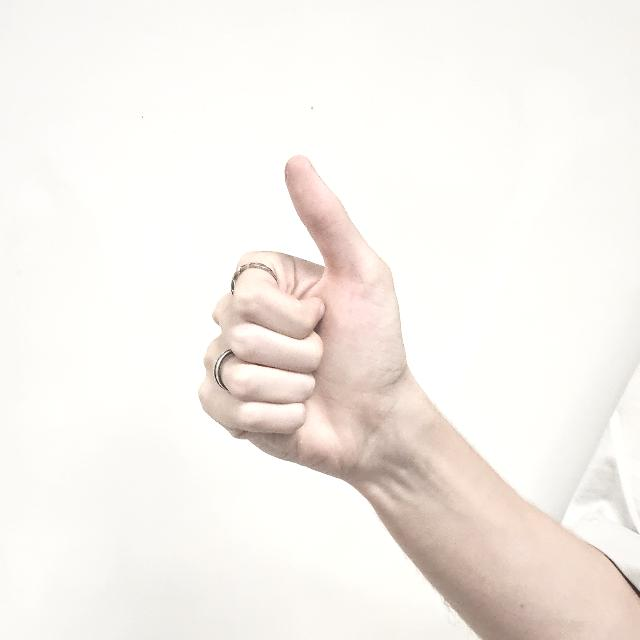Start: (203, 155, 415, 483)
